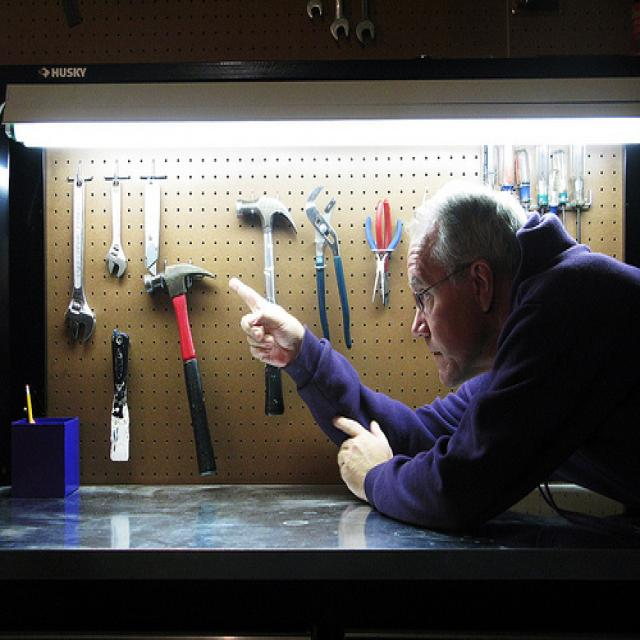hammer: (134, 240, 226, 431), (231, 182, 307, 319)
wrench: (56, 168, 106, 370), (89, 159, 132, 298)
